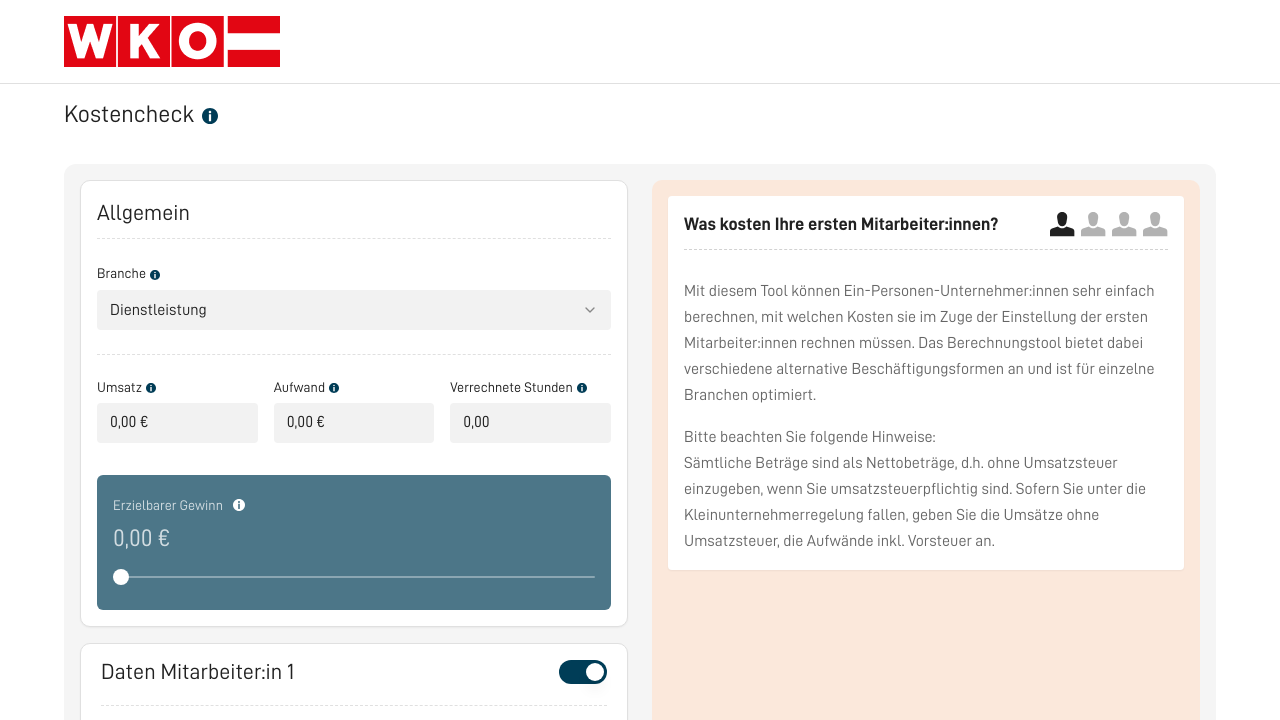
Calculator page › formats and clamps percent inputs
Click the dropdown named "Branche": (158, 310) [97,290,611,330]
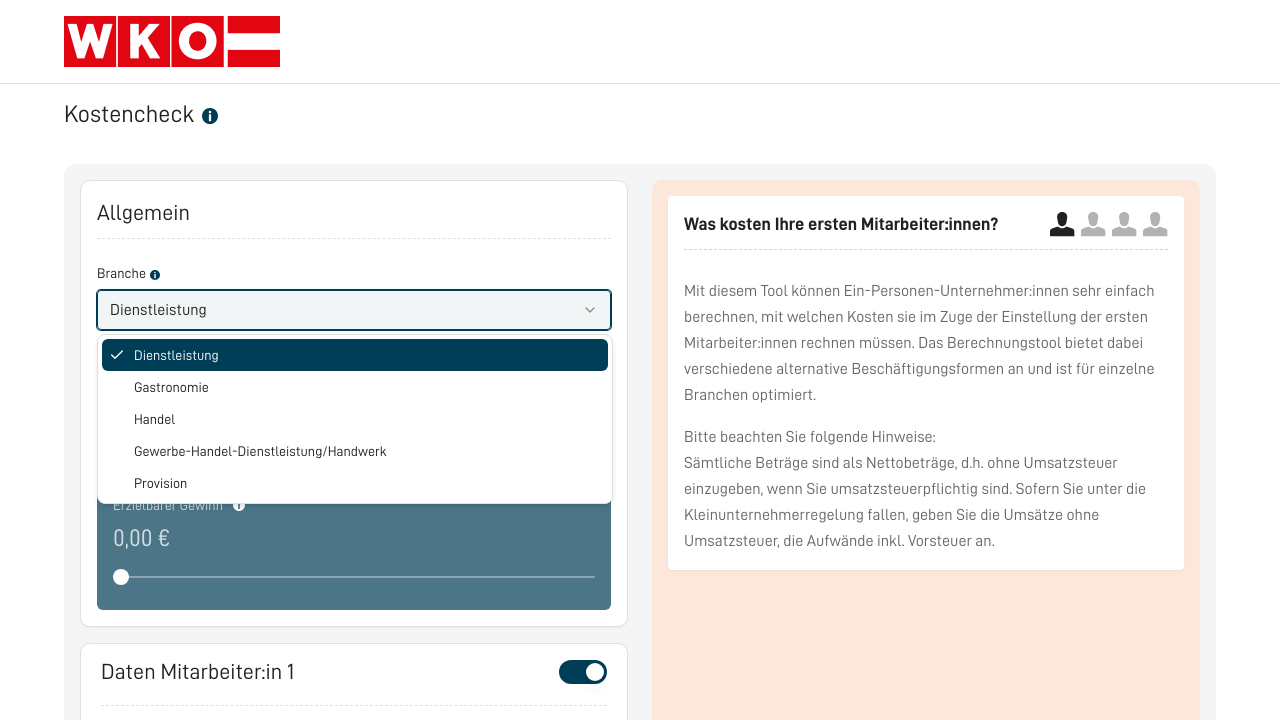
Click the option "Provision": (161, 483) [134,476,187,490]
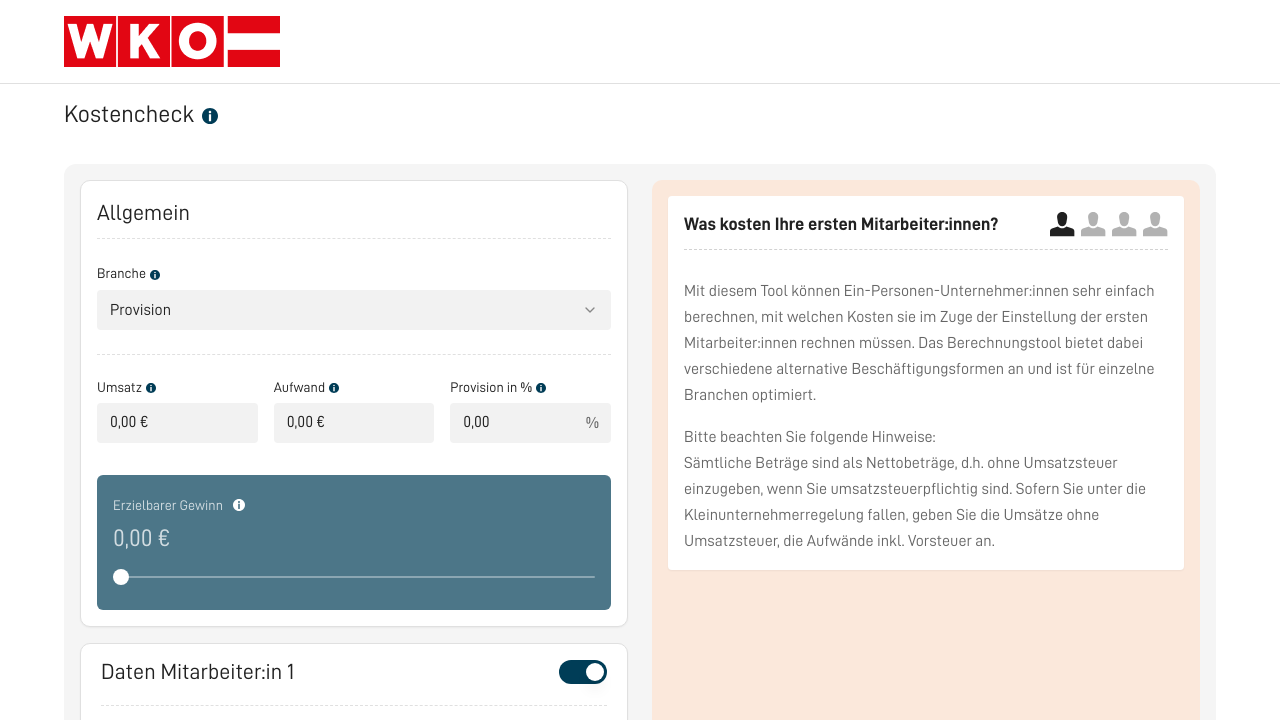
Click the field named "Provision in %": (531, 422) [450,402,611,442]
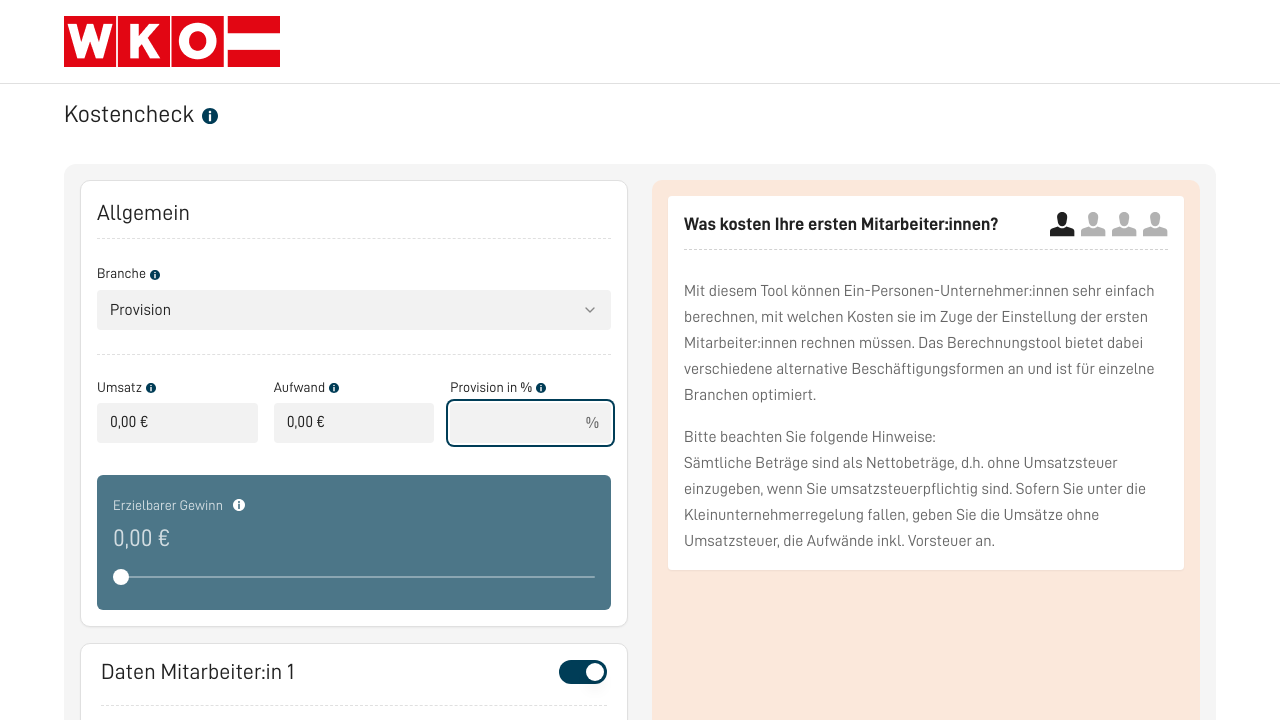
Type keys "150"
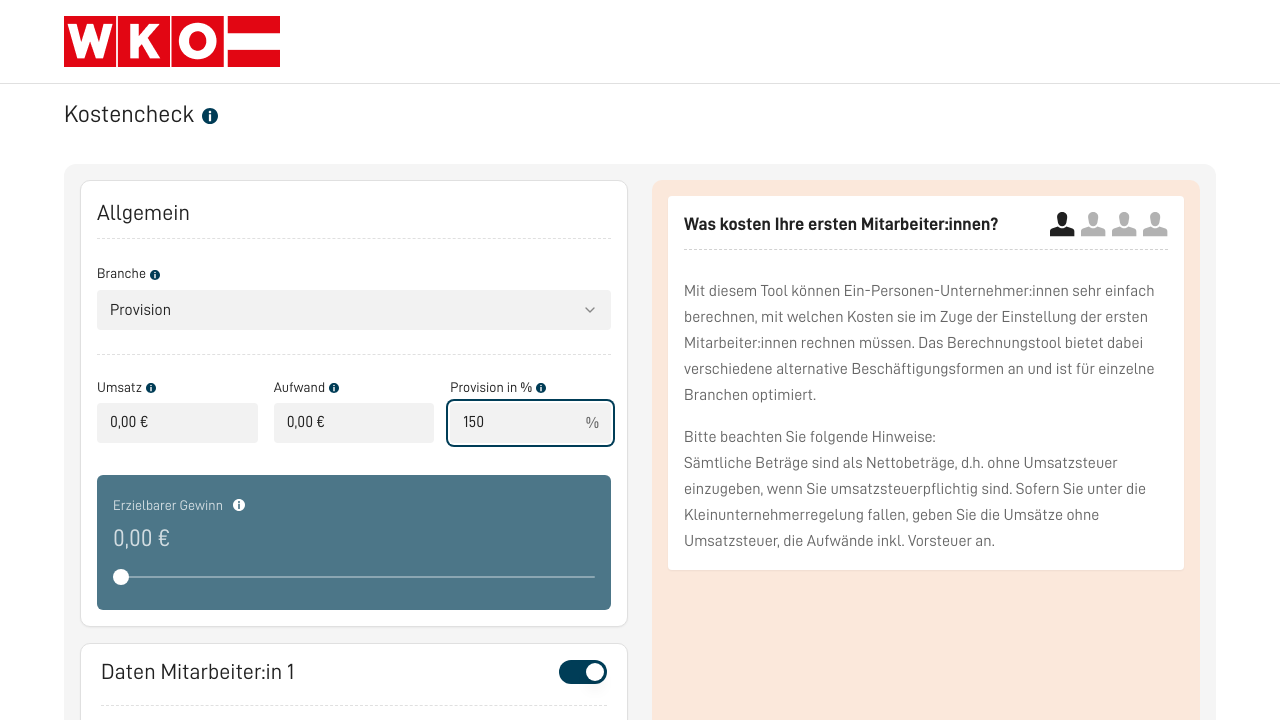
Press Tab
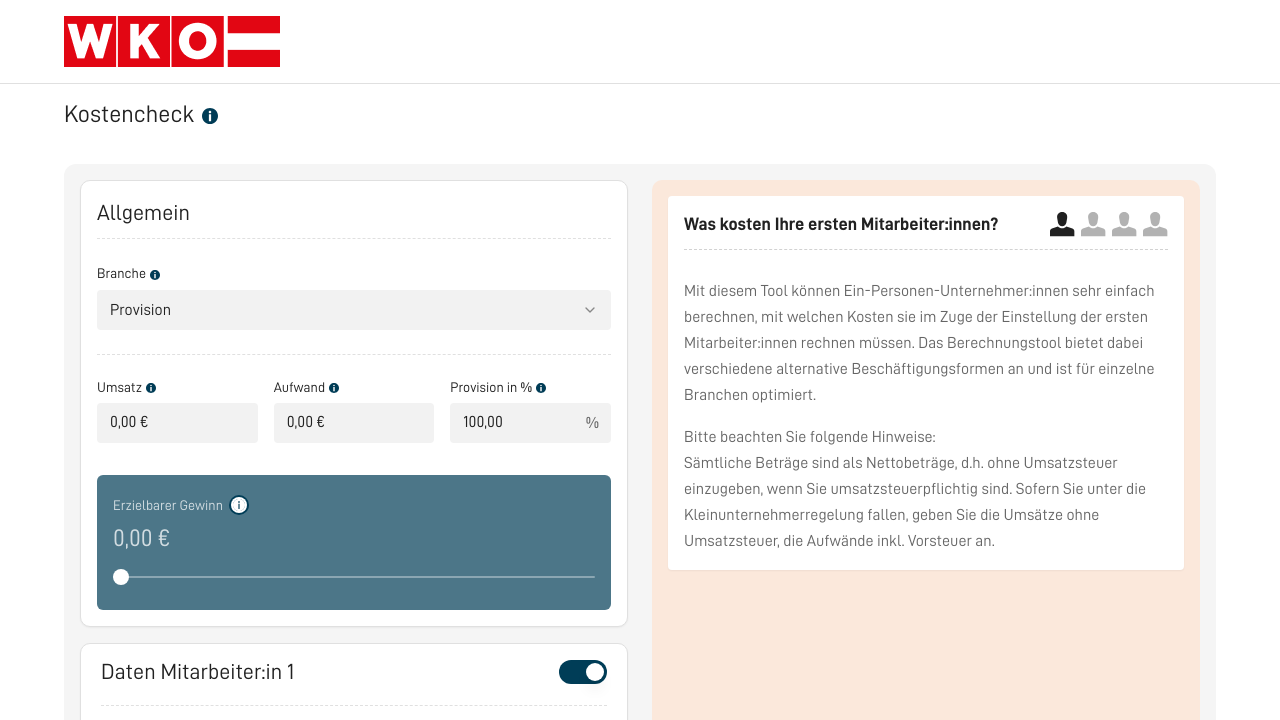
Now the field named "Provision in %" holds "100,00", box [450,402,611,442]
